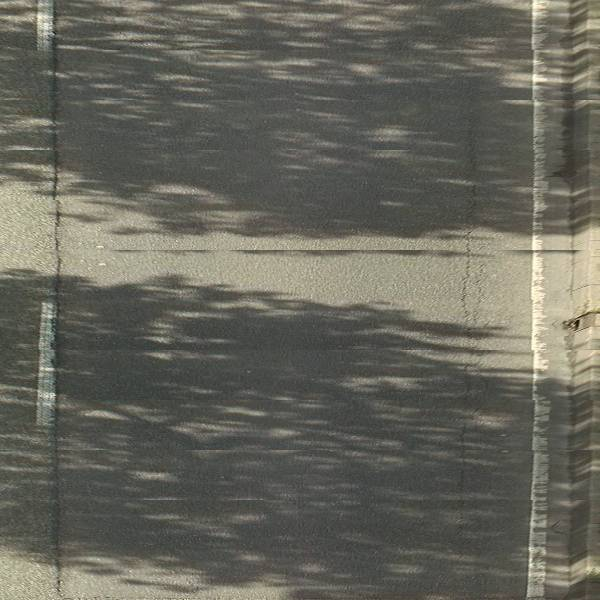road_damage: (49, 154, 65, 600), (462, 202, 487, 415)
